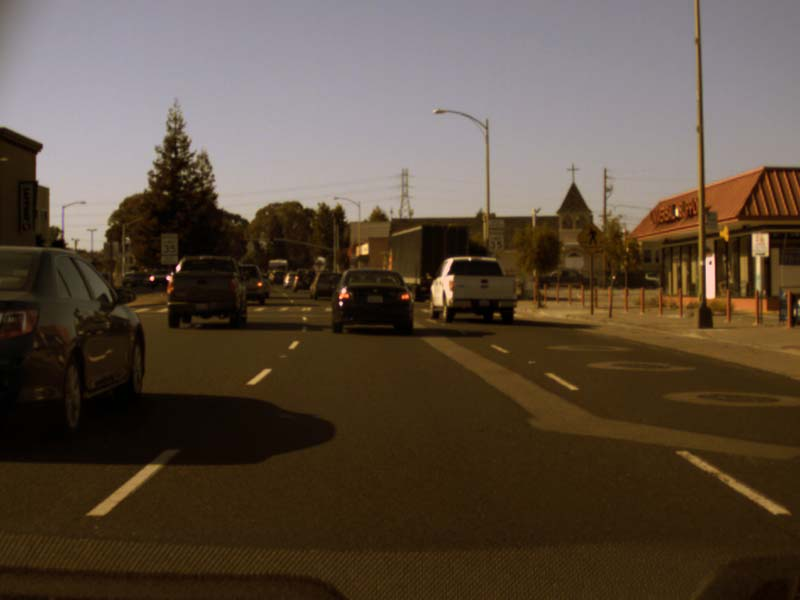Green: (270, 236, 273, 245)
